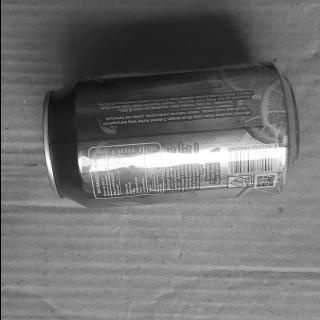alumunium_can: (38, 45, 302, 234)
